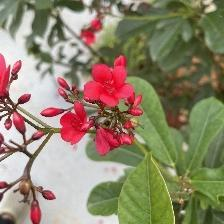jatropha: (84, 64, 134, 111)
